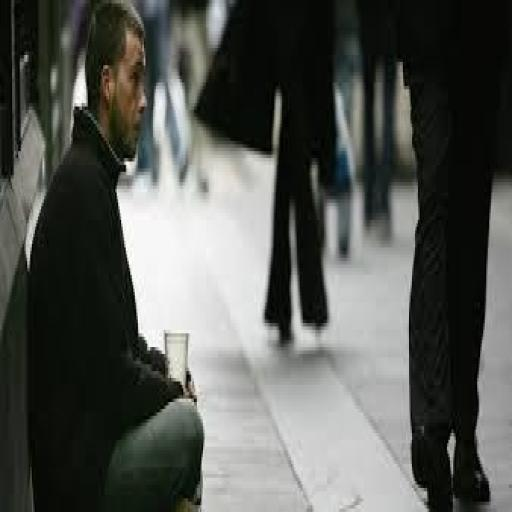sleeping: (26, 0, 206, 509)
